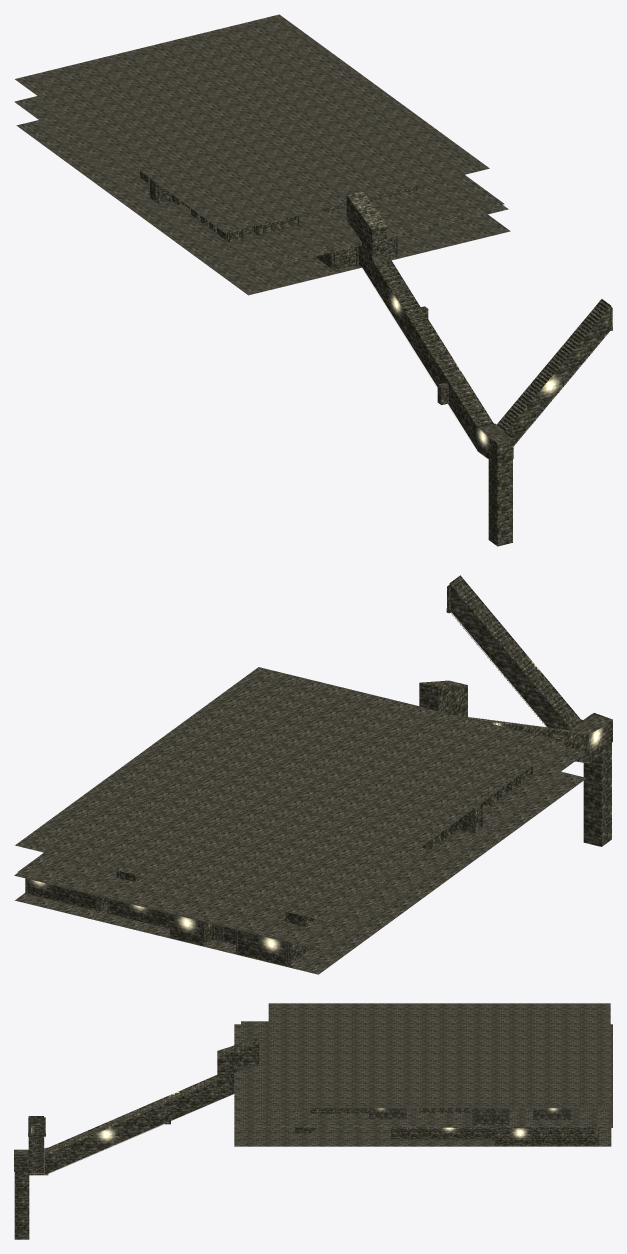
The model's file is FI_002_zennkiseisaku_meiro2_01_41.fbx.
The picture shows the model from 3 angles, top to bottom: view 1: azimuth 30°, elevation 25°; view 2: azimuth 150°, elevation 25°; view 3: azimuth 270°, elevation 25°; orthographic projection. The views are drawn at different scales.
Parts seen in each view (by area): view 1: tenjou_2kai, yuka_2kai, kabe_1kai, yuka_1kai, tenjou_kaidann, tenjou_kaidann2, kabe_2kai, tenjou_1kai; view 2: tenjou_2kai, kabe_1kai, yuka_2kai, yuka_1kai, tenjou_kaidann2, tenjou_1kai, kabe_2kai, hasira; view 3: tenjou_2kai, kabe_1kai, yuka_2kai, yuka_1kai, kabe_2kai, tenjou_1kai, tenjou_kaidann, kaidann.
Boxes of the visible parts, bbox=[...] form: tenjou_2kai: bbox=[15, 14, 489, 233]; yuka_2kai: bbox=[14, 96, 504, 268]; kabe_1kai: bbox=[315, 190, 611, 546]; yuka_1kai: bbox=[16, 120, 510, 295]; tenjou_kaidann: bbox=[372, 255, 492, 427]; tenjou_kaidann2: bbox=[497, 301, 609, 430]; kabe_2kai: bbox=[140, 171, 416, 241]; tenjou_1kai: bbox=[242, 204, 508, 272]; tenjou_2kai: bbox=[15, 667, 564, 920]; kabe_1kai: bbox=[27, 575, 612, 966]; yuka_2kai: bbox=[17, 747, 585, 946]; yuka_1kai: bbox=[15, 771, 586, 974]; tenjou_kaidann2: bbox=[451, 578, 580, 728]; tenjou_1kai: bbox=[14, 745, 586, 949]; kabe_2kai: bbox=[119, 767, 531, 926]; hasira: bbox=[25, 766, 532, 966]; tenjou_2kai: bbox=[268, 1003, 610, 1108]; kabe_1kai: bbox=[14, 1037, 597, 1239]; yuka_2kai: bbox=[241, 1021, 610, 1125]; yuka_1kai: bbox=[234, 1127, 611, 1146]; kabe_2kai: bbox=[310, 1108, 569, 1125]; tenjou_1kai: bbox=[234, 1024, 612, 1127]; tenjou_kaidann: bbox=[48, 1076, 217, 1153]; kaidann: bbox=[28, 1130, 315, 1175].
Bounding box in the file's own units: 973 × 847 × 2341.
